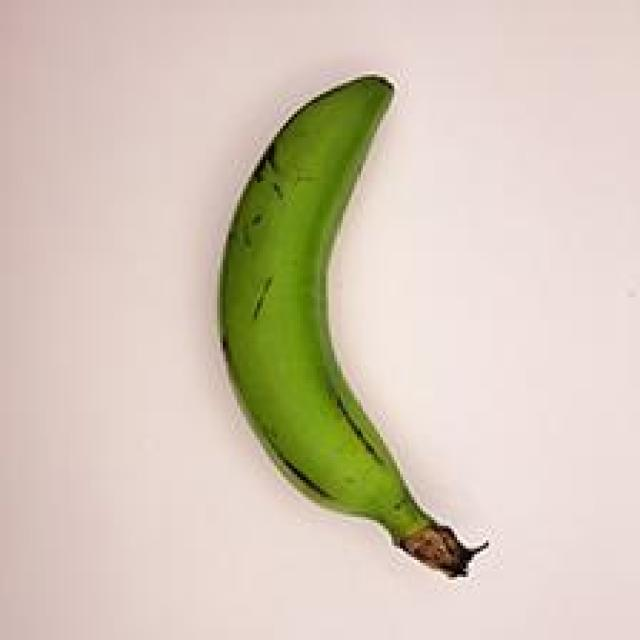Raw: (183, 51, 497, 593)
